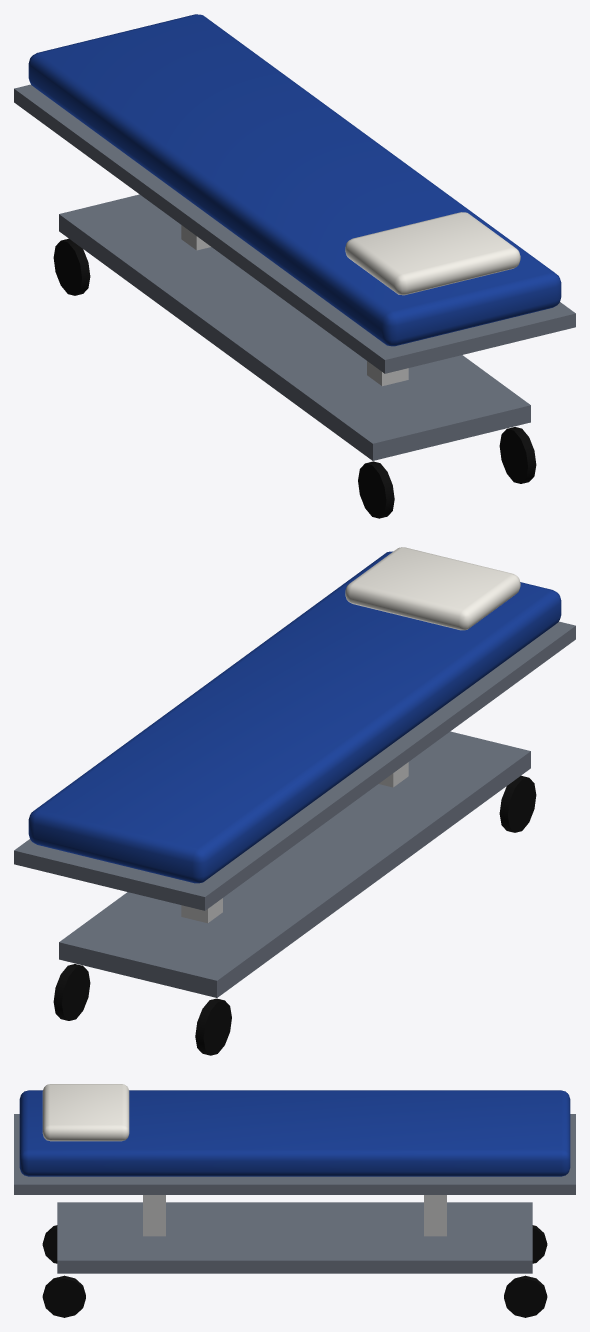
The model's file is hospital.bed.stretcher.glb.
3 renders of one model, top to bottom at view 1: azimuth 30°, elevation 25°; view 2: azimuth 150°, elevation 25°; view 3: azimuth 270°, elevation 25°, orthographic. The views are drawn at different scales.
Visible parts, largest first — view 1: soft__plastic_blue, frame__steel_painted, soft__fabric_white, frame__rubber, frame__steel_stainless; view 2: soft__plastic_blue, frame__steel_painted, soft__fabric_white, frame__rubber, frame__steel_stainless; view 3: frame__steel_painted, soft__plastic_blue, soft__fabric_white, frame__rubber, frame__steel_stainless.
Boxes of the visible parts, <box> form: soft__plastic_blue: <box>28,14,561,346</box>; frame__steel_painted: <box>14,84,575,460</box>; soft__fabric_white: <box>345,212,520,295</box>; frame__rubber: <box>53,238,536,518</box>; frame__steel_stainless: <box>181,225,408,386</box>; soft__plastic_blue: <box>28,551,561,883</box>; frame__steel_painted: <box>14,621,575,997</box>; soft__fabric_white: <box>345,547,520,630</box>; frame__rubber: <box>53,775,536,1055</box>; frame__steel_stainless: <box>181,762,408,923</box>; frame__steel_painted: <box>14,1114,575,1273</box>; soft__plastic_blue: <box>19,1090,570,1176</box>; soft__fabric_white: <box>42,1084,129,1141</box>; frame__rubber: <box>42,1225,547,1317</box>; frame__steel_stainless: <box>143,1195,446,1236</box>.
Bounding box in the file's own units: 0.58 × 0.71 × 1.95.
